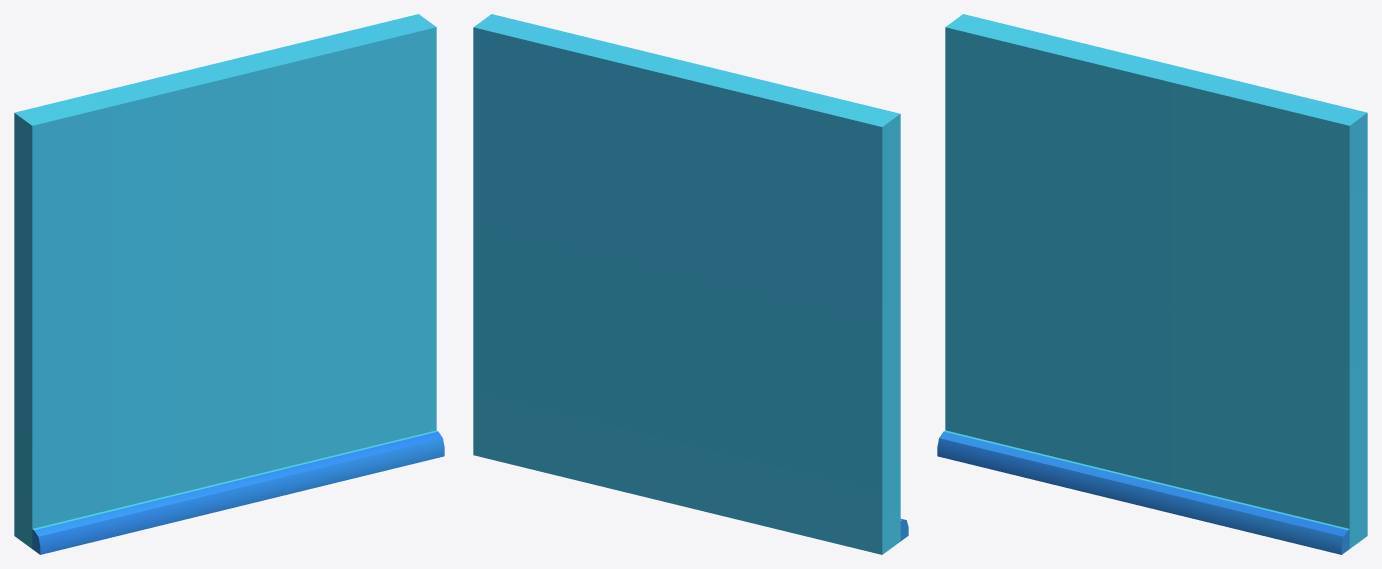
Rendered from B_Wall005.fbx.
The picture shows the model from 3 angles, left to right: view 1: azimuth 30°, elevation 25°; view 2: azimuth 150°, elevation 25°; view 3: azimuth 330°, elevation 25°; orthographic projection.
Visible parts, largest first — view 1: Wall005; view 2: Wall005; view 3: Wall005.
Boxes of the visible parts, x1,y1,x2,y2 form: Wall005: (14,14,444,554); Wall005: (473,14,908,554); Wall005: (937,14,1367,554).
Bounding box in the file's own units: 250 × 250 × 27.87.
Materials: 1 (1 with a texture image).
